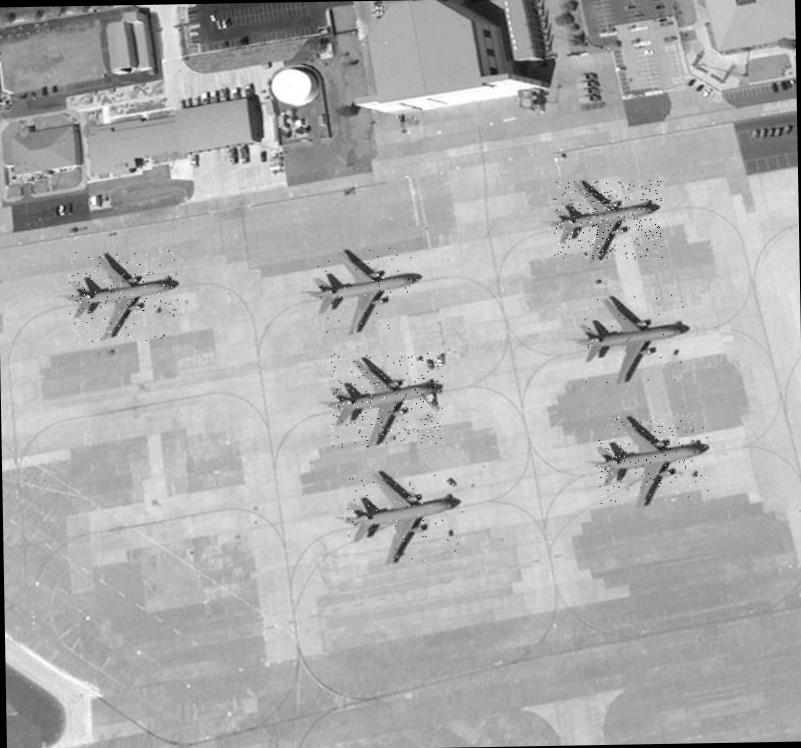A18: (328, 351, 444, 447), (342, 472, 464, 562), (67, 249, 178, 342), (598, 415, 710, 506), (582, 292, 688, 383), (313, 244, 421, 332), (553, 180, 662, 260)
